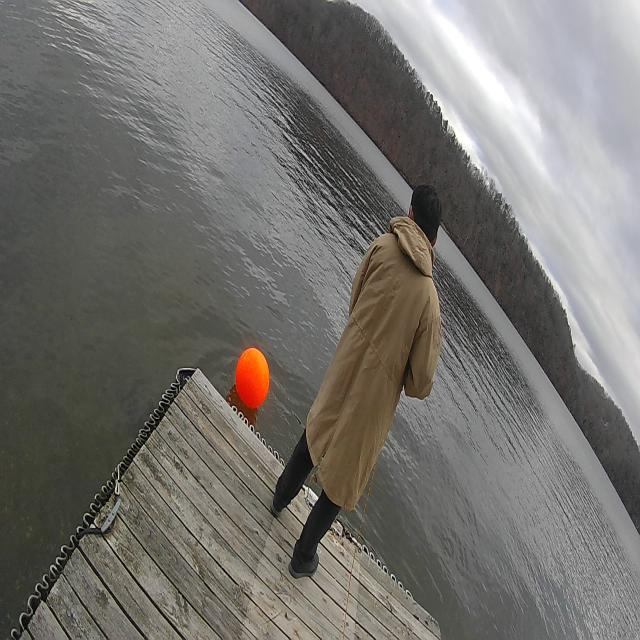Buoy: (233, 341, 273, 413)
